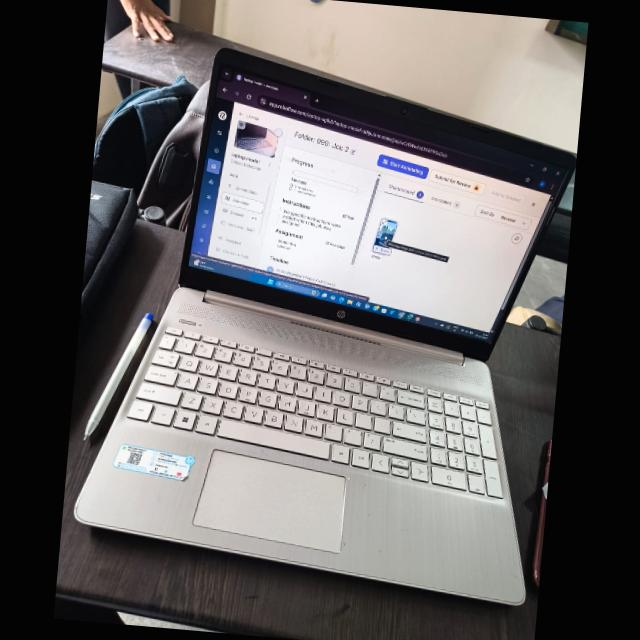laptop: (86, 7, 585, 624)
